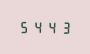five: (18, 19, 30, 33)
four: (44, 19, 56, 34), (31, 19, 43, 33)
three: (57, 20, 69, 34)
